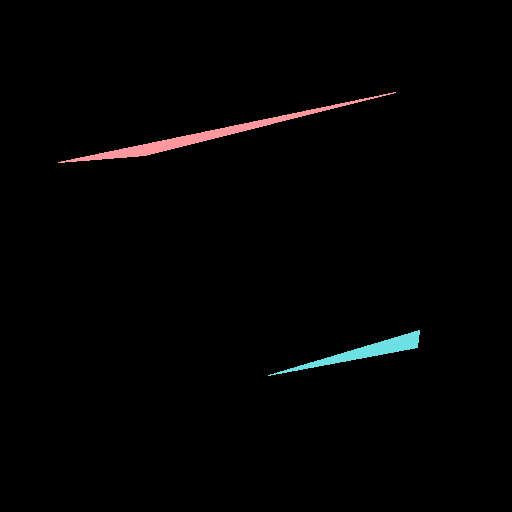triangle: (268, 330, 419, 375)
